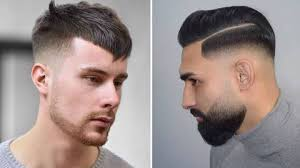b.y: (190, 110, 236, 145)
